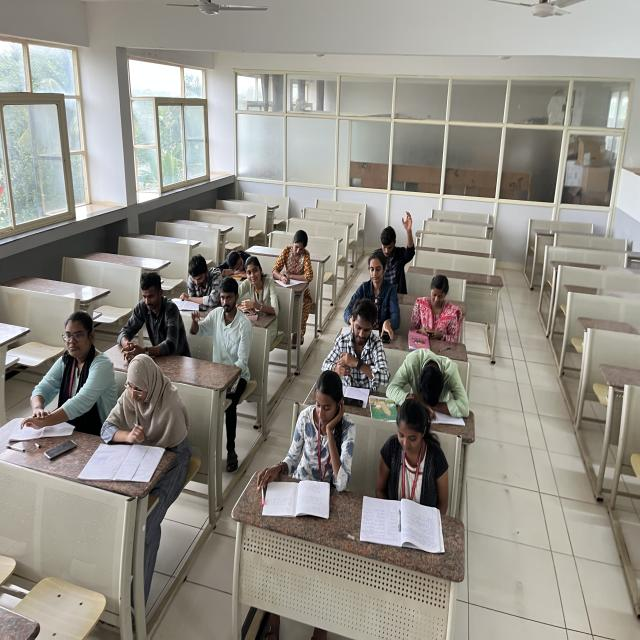Hand Rising: (375, 208, 419, 288)
Reading: (258, 365, 364, 502), (103, 341, 185, 463), (318, 302, 398, 405), (178, 250, 225, 308)
Sleeping: (386, 343, 468, 419), (212, 242, 261, 280)
Using Phone: (403, 274, 467, 354)
Writing: (272, 225, 318, 292)
